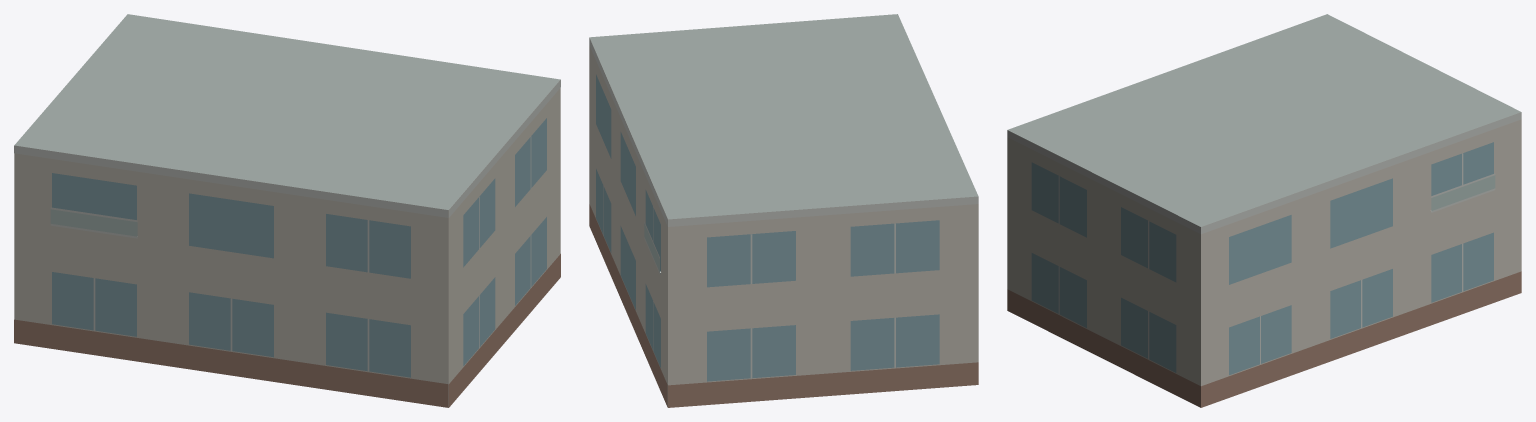
Rendered from survey-upis-32849196.glb.
3 renders of one model, left to right at view 1: azimuth 30°, elevation 25°; view 2: azimuth 150°, elevation 25°; view 3: azimuth 270°, elevation 25°, orthographic. The views are drawn at different scales.
Visible parts, largest first — view 1: survey-upis-32849196.tmp; view 2: survey-upis-32849196.tmp; view 3: survey-upis-32849196.tmp.
Part boxes in pixels (left/top/right/bottom): survey-upis-32849196.tmp: left=14, top=14, right=560, bottom=407; survey-upis-32849196.tmp: left=589, top=14, right=978, bottom=407; survey-upis-32849196.tmp: left=1007, top=14, right=1521, bottom=407.
Bounding box in the file's own units: 15.43 × 6.1 × 15.74.
